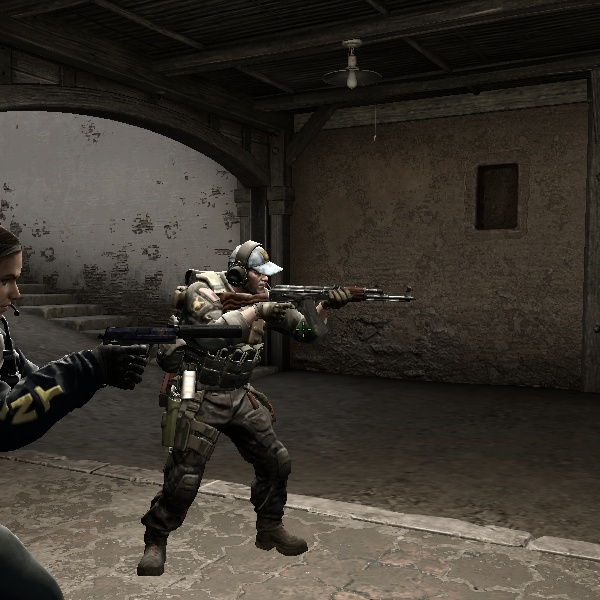ct_body: (141, 231, 333, 559)
ct_head: (214, 240, 280, 300)
